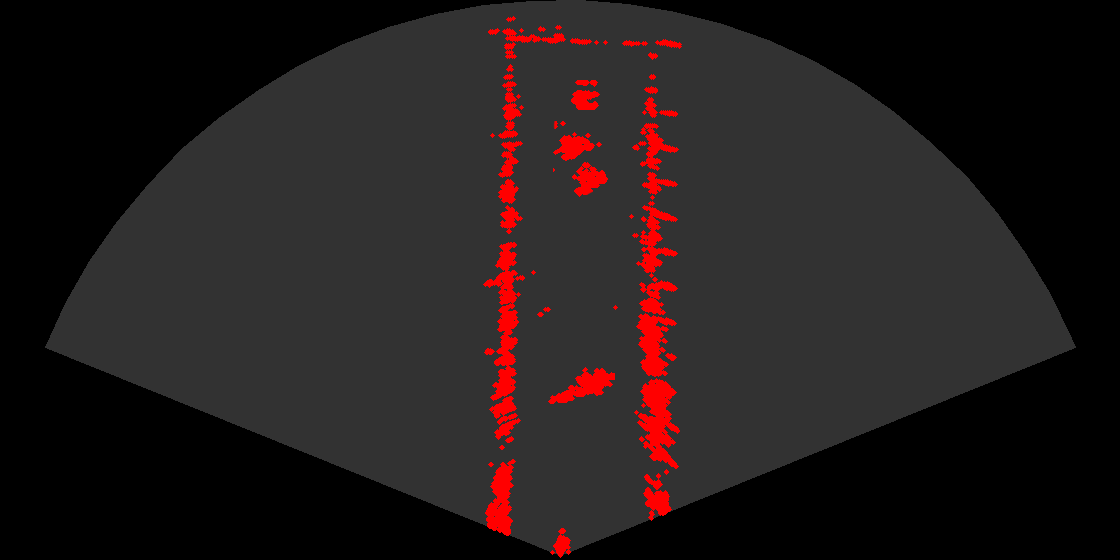ball: (551, 72, 611, 113)
cage: (553, 121, 616, 205)
frogman: (547, 361, 615, 408)
